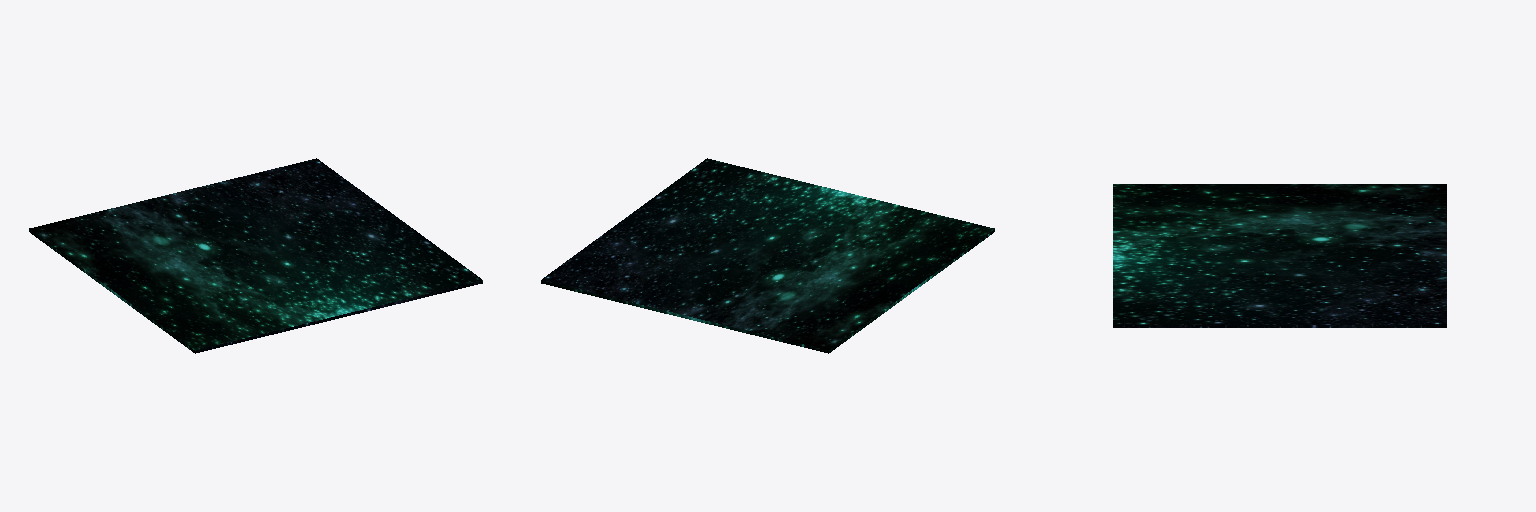
The picture shows the model from 3 angles: view 1: azimuth 30°, elevation 25°; view 2: azimuth 150°, elevation 25°; view 3: azimuth 270°, elevation 25°; orthographic projection.
Parts seen in each view (by area): view 1: Cube1; view 2: Cube1; view 3: Cube1.
Boxes of the visible parts, x1,y1,x2,y2 form: Cube1: [29, 158, 482, 353]; Cube1: [541, 158, 994, 353]; Cube1: [1113, 184, 1446, 327].
Bounding box in the file's own units: 19.28 × 0.1928 × 19.28.
Materials: 1 (1 with a texture image).